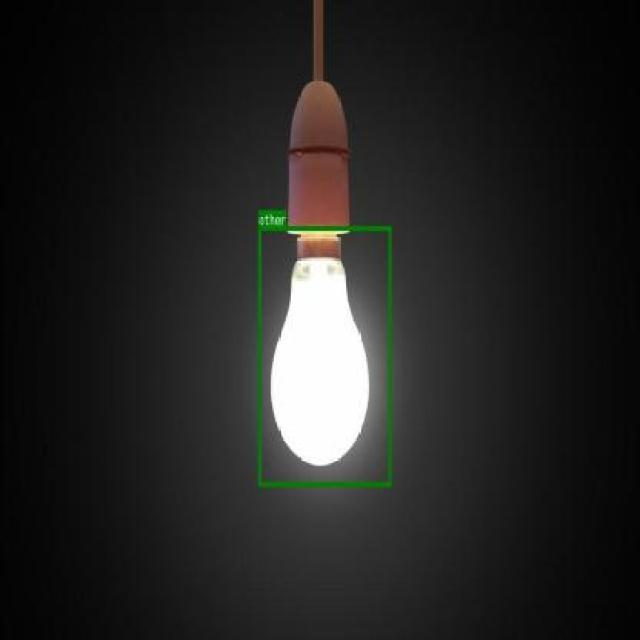other: (258, 225, 392, 486)
